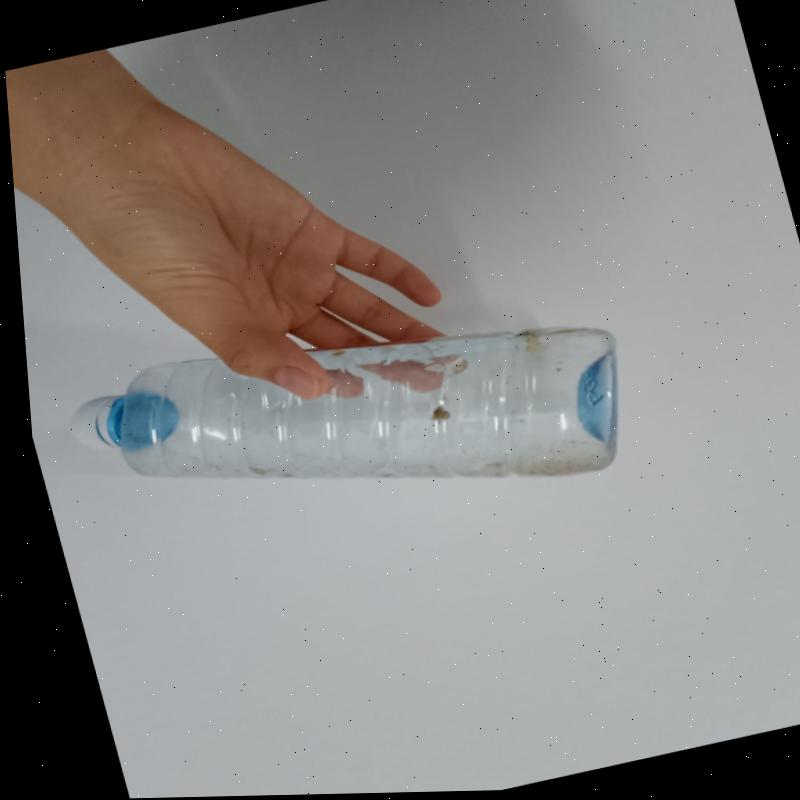botella: (51, 267, 652, 575)
